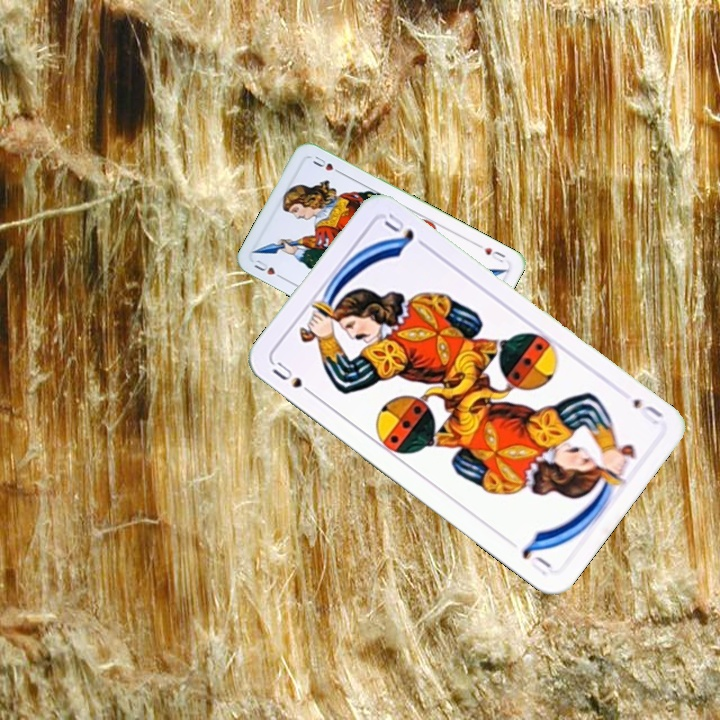HU: (250, 255, 287, 282), (473, 240, 508, 265)
SU: (268, 357, 320, 401), (628, 394, 666, 427)
